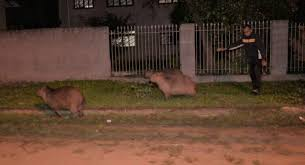capivara: (35, 85, 88, 119), (150, 72, 199, 101)
